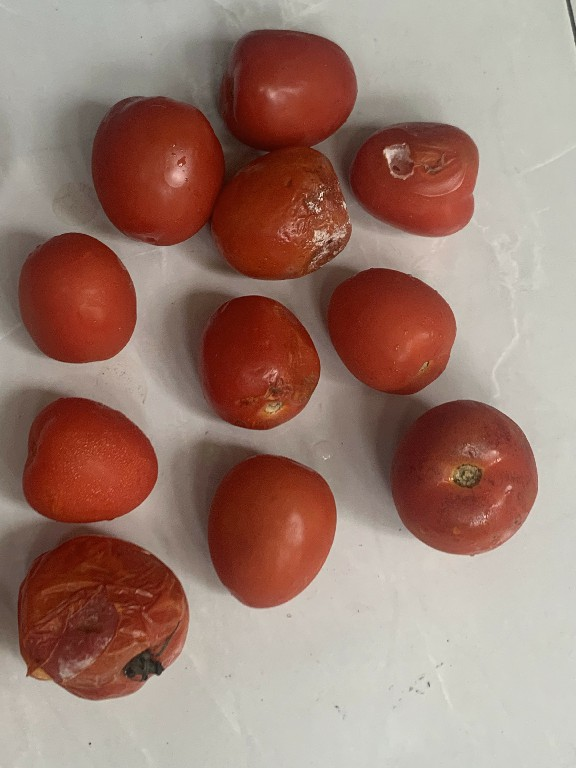NG: (6, 532, 194, 707), (209, 143, 346, 282), (191, 287, 321, 433), (344, 116, 495, 239)
OK: (384, 392, 540, 561), (196, 448, 342, 614), (86, 83, 223, 253), (18, 394, 179, 525), (11, 223, 148, 371), (321, 261, 463, 397), (221, 11, 360, 148)
